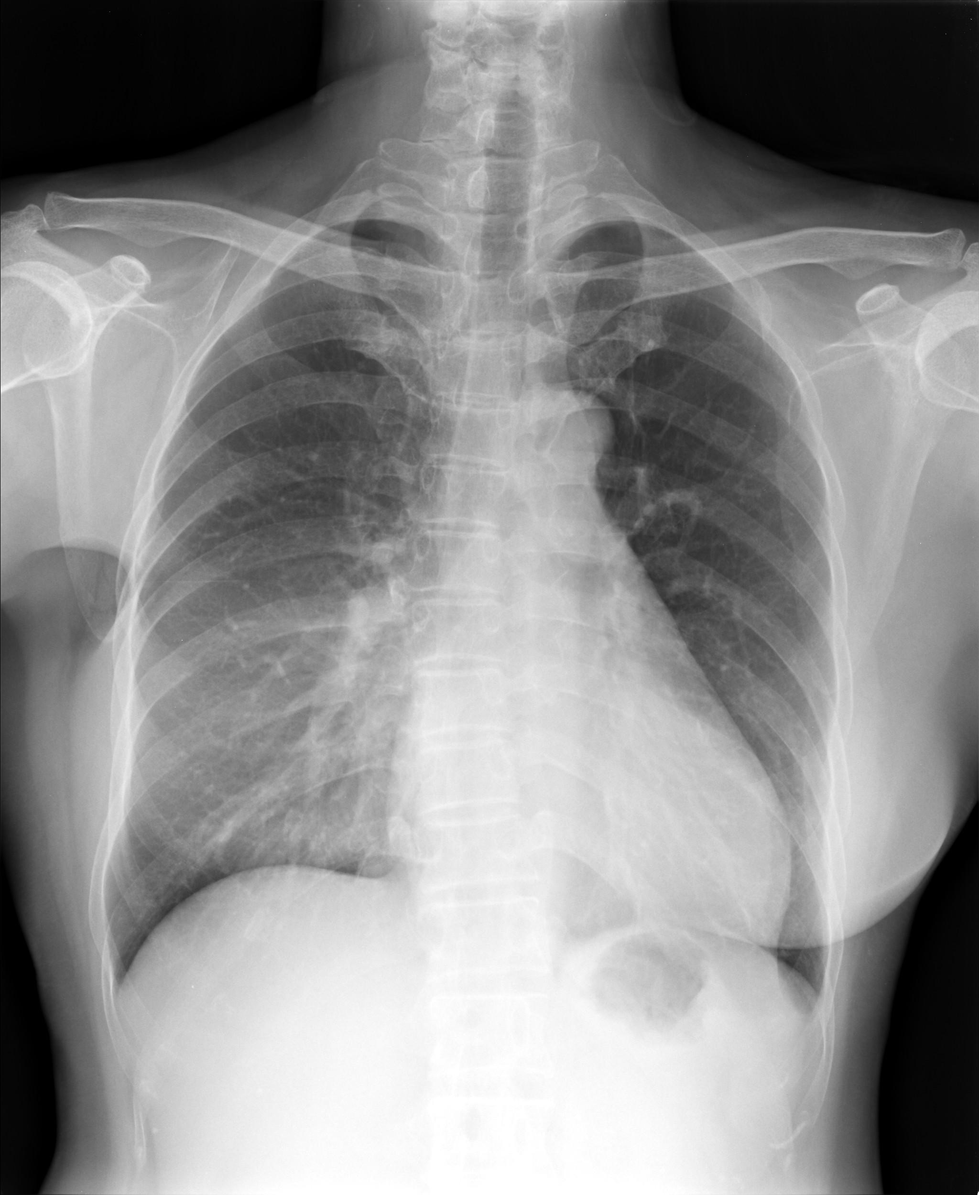Aortic enlargement: (507, 387, 613, 480)
Cardiomegaly: (382, 784, 794, 956)
Pleural thickening: (549, 217, 642, 257)
